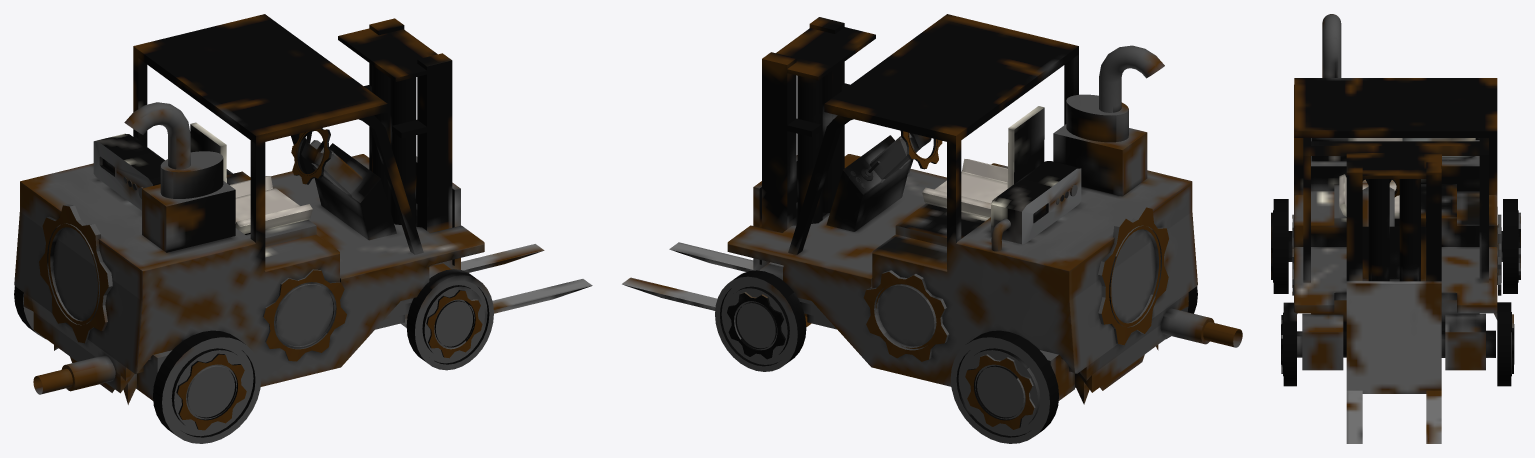
File: FM-010_ForkLift.fbx
3 views of the same model, side by side, from view 1: azimuth 30°, elevation 25°; view 2: azimuth 150°, elevation 25°; view 3: azimuth 270°, elevation 25° (orthographic). The views are drawn at different scales.
Parts seen in each view (by area): view 1: FM-010 ForkLift; view 2: FM-010 ForkLift; view 3: FM-010 ForkLift.
Boxes of the visible parts, left/top/right/bottom form: FM-010 ForkLift: left=14, top=14, right=592, bottom=443; FM-010 ForkLift: left=622, top=14, right=1242, bottom=443; FM-010 ForkLift: left=1271, top=14, right=1520, bottom=443.
Size of the model in its own units: 1608 by 756 by 877.
